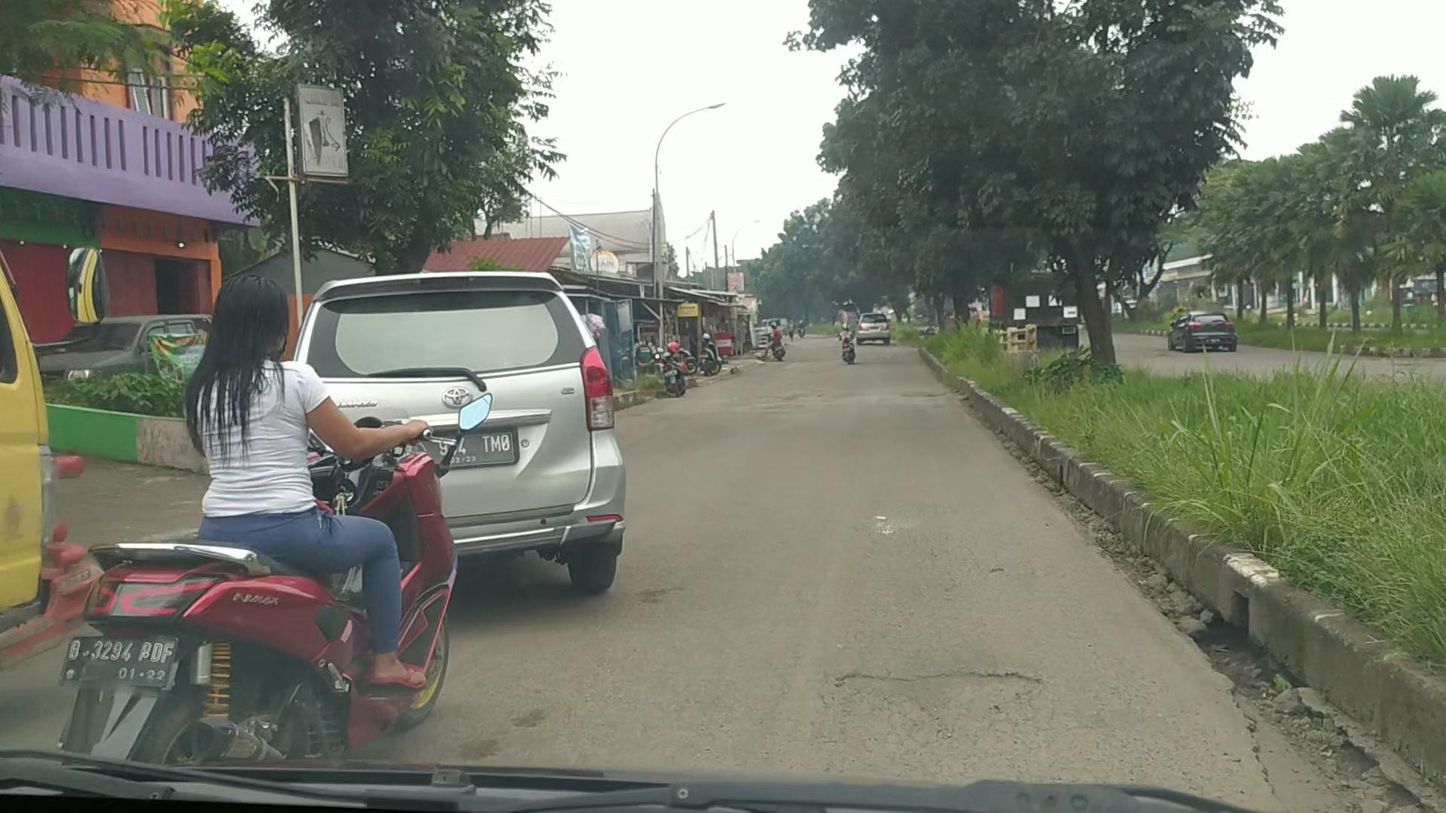pothole: (831, 668, 1043, 733)
